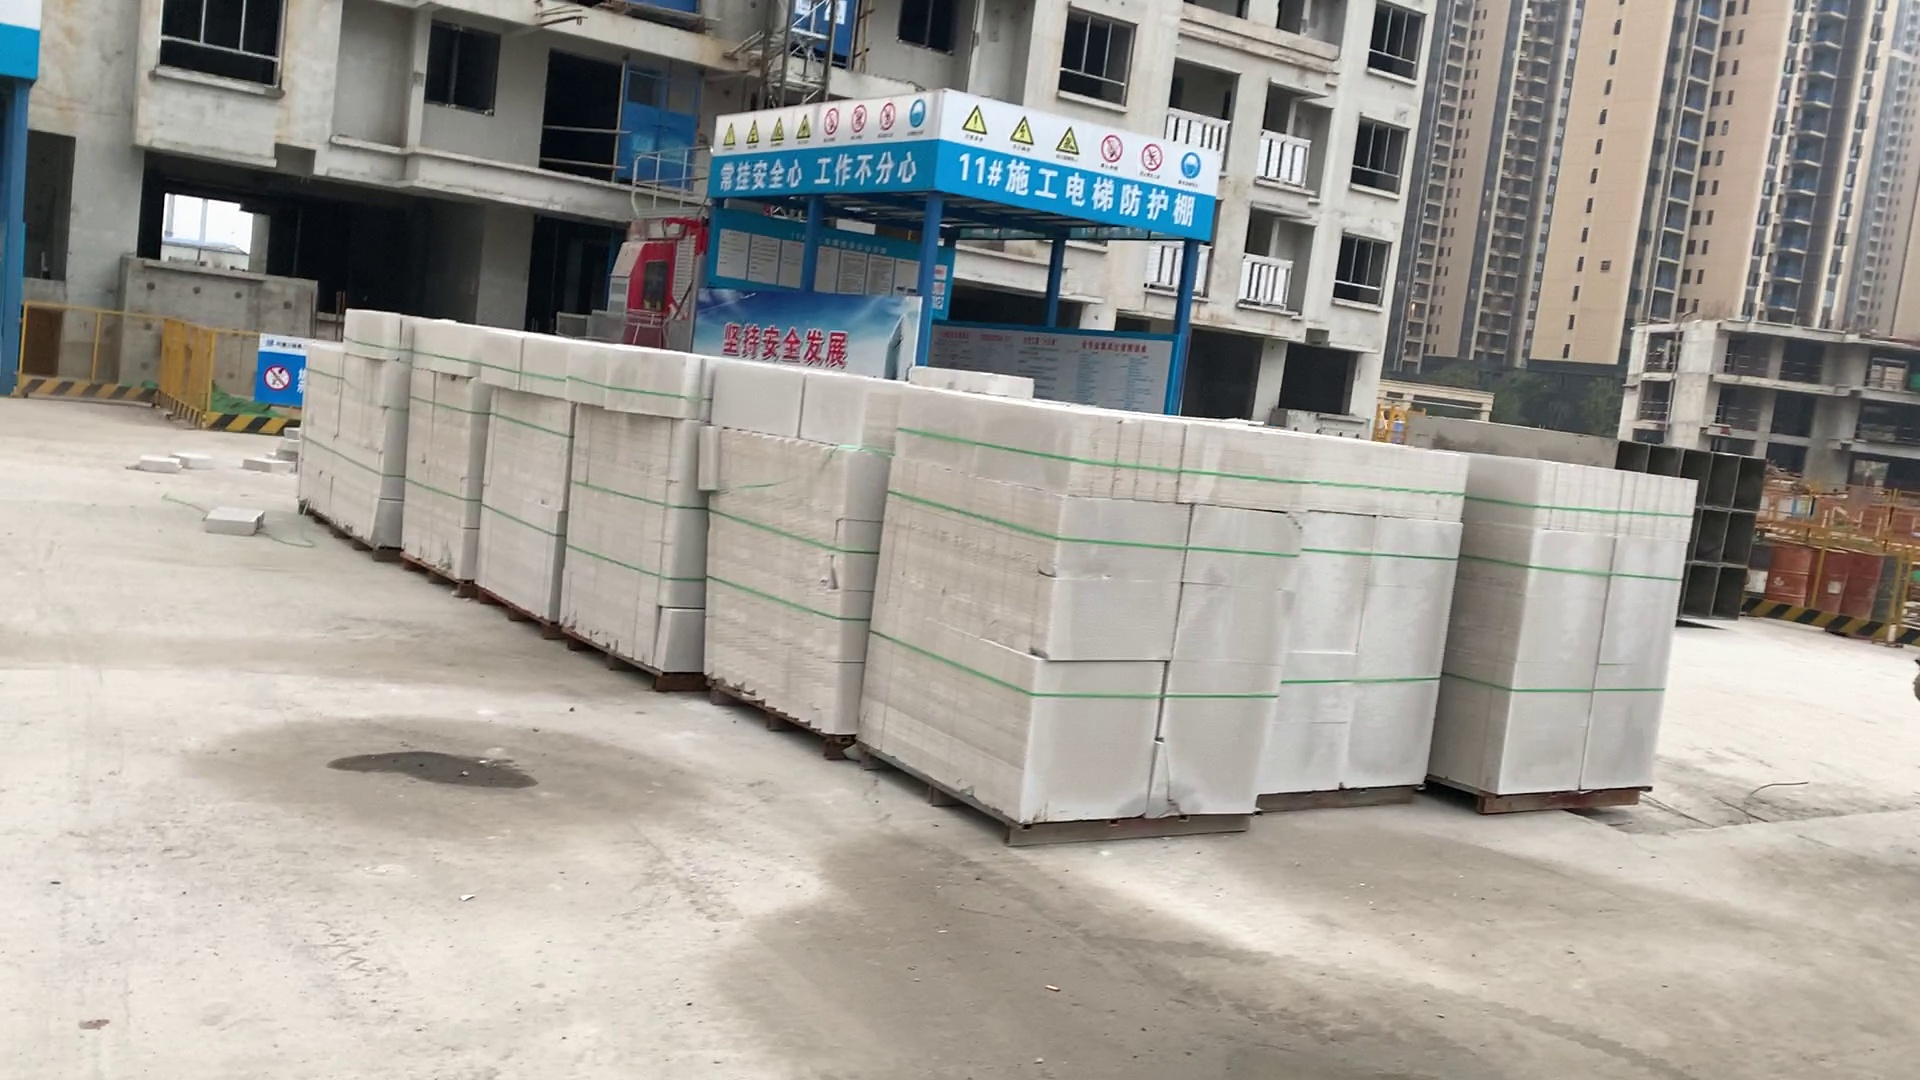brickwork: (868, 386, 1292, 845), (1470, 464, 1700, 802), (1266, 446, 1452, 803), (699, 357, 862, 741), (568, 349, 703, 688), (469, 327, 566, 622), (297, 311, 396, 542), (393, 334, 481, 584)
